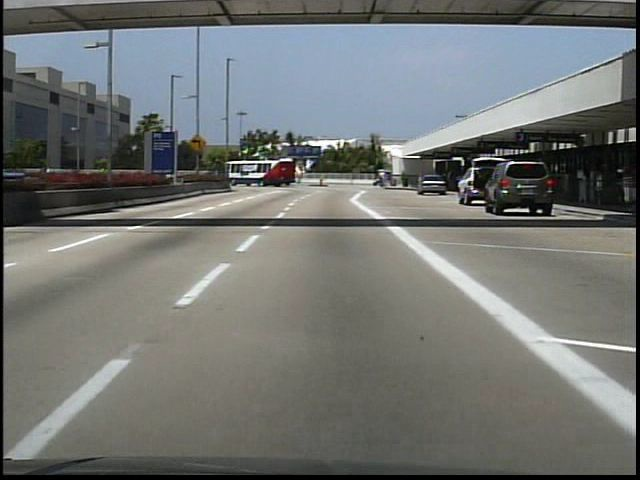person: (618, 164, 639, 212)
